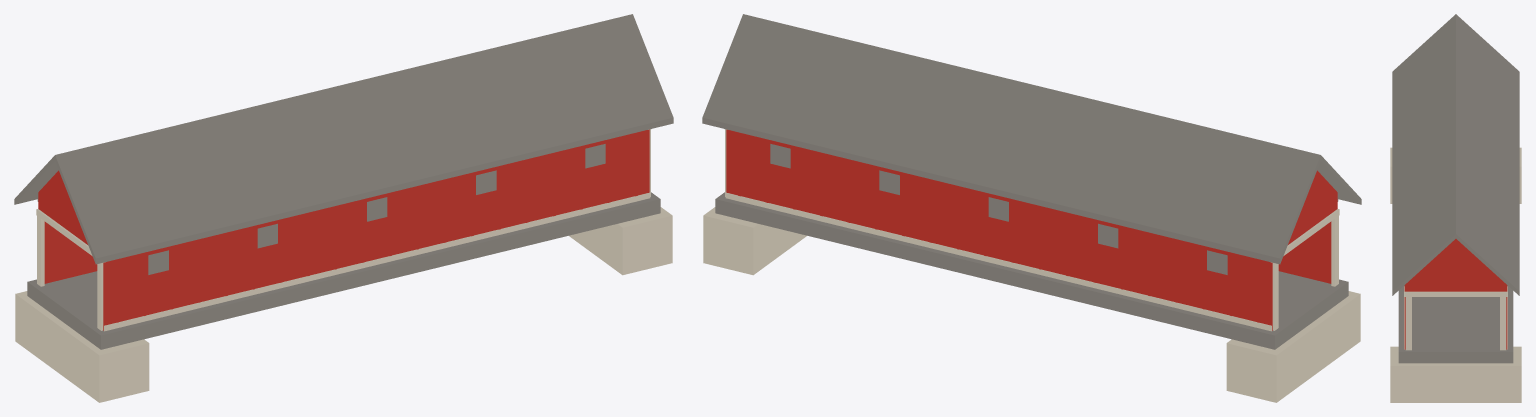
The model's file is Blender_CoveredBridge_1.glb.
3 views of the same model, side by side, from view 1: azimuth 30°, elevation 25°; view 2: azimuth 150°, elevation 25°; view 3: azimuth 270°, elevation 25° (orthographic). The views are drawn at different scales.
Visible parts, largest first — view 1: Blender_CoveredBridge_1; view 2: Blender_CoveredBridge_1; view 3: Blender_CoveredBridge_1.
Part boxes in pixels (bbox=[...]): Blender_CoveredBridge_1: bbox=[14, 14, 673, 402]; Blender_CoveredBridge_1: bbox=[702, 14, 1361, 402]; Blender_CoveredBridge_1: bbox=[1390, 14, 1521, 402].
Size of the model in its own units: 25.4 by 9.15 by 6.4.
